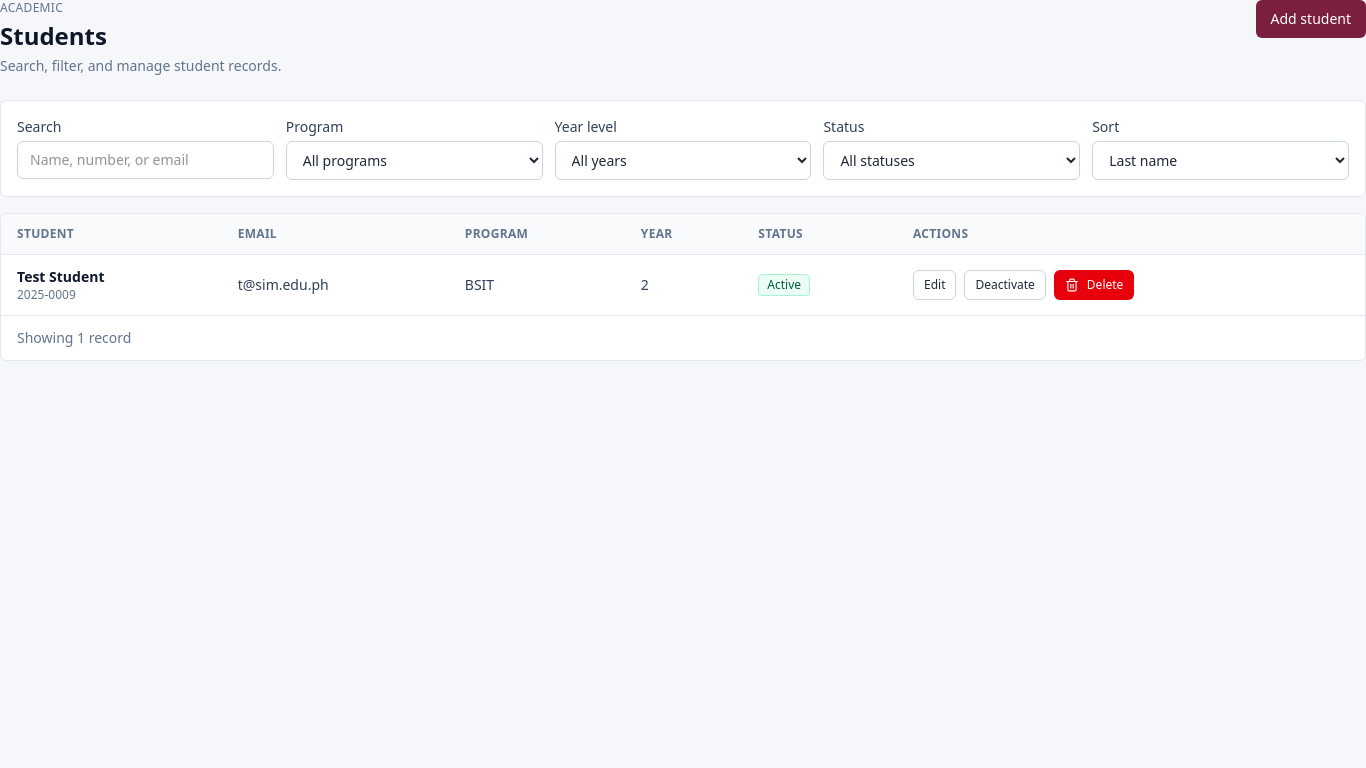
Test: StudentsPage › shows confirmation dialog before delete
The width and height of the screenshot is (1366, 768).
Click the button "Delete".
click(1094, 285)  # box [1054, 270, 1134, 300]
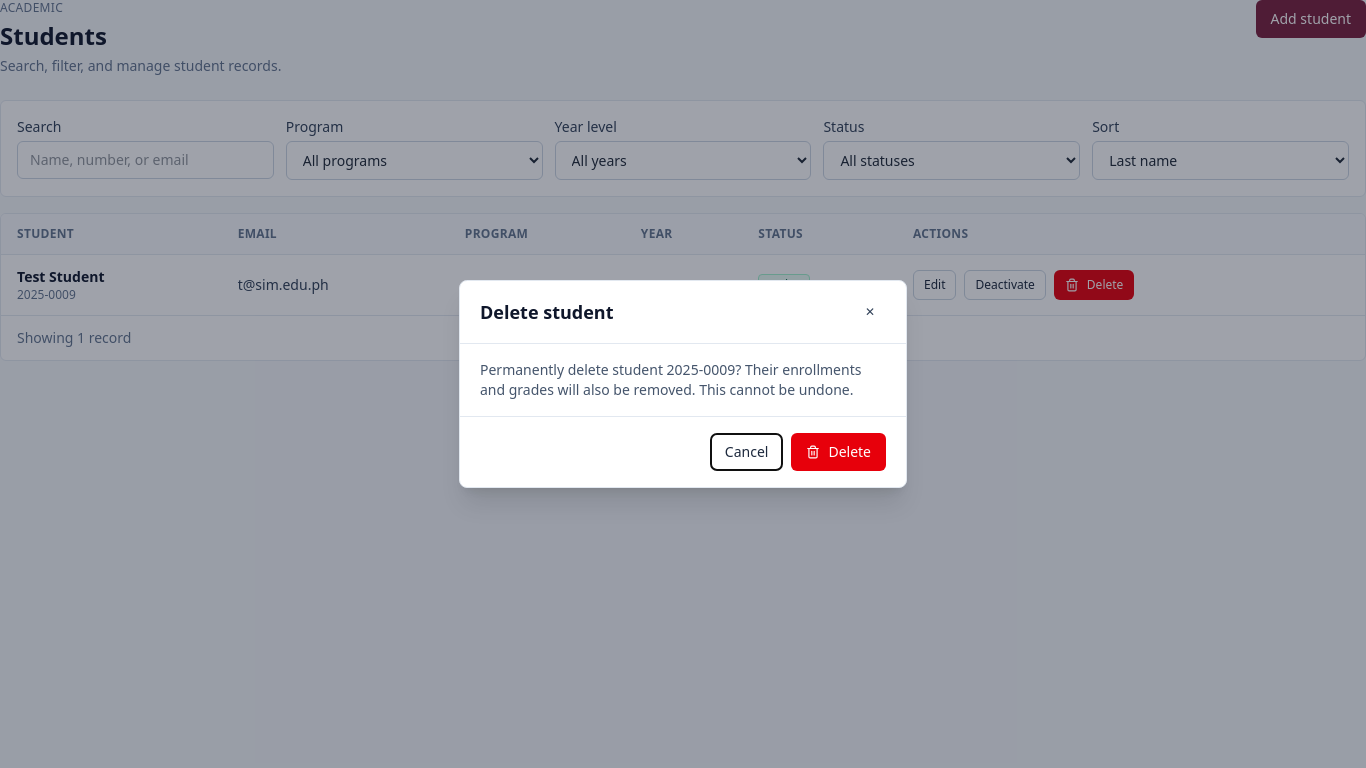
Now the text "Permanently delete student" is shown, box [480, 360, 861, 399]
